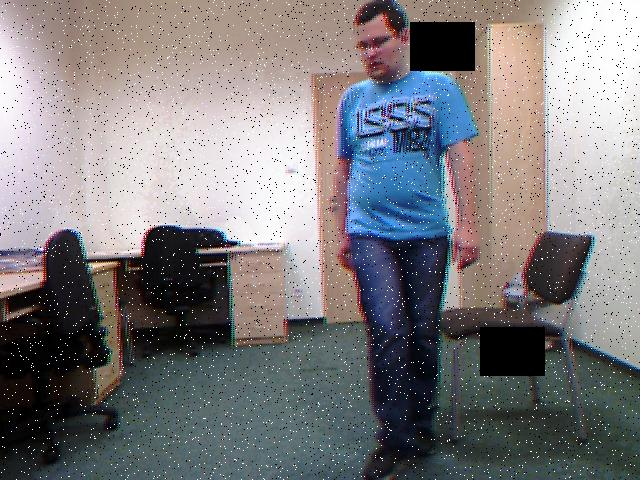walking: (328, 0, 493, 480)
